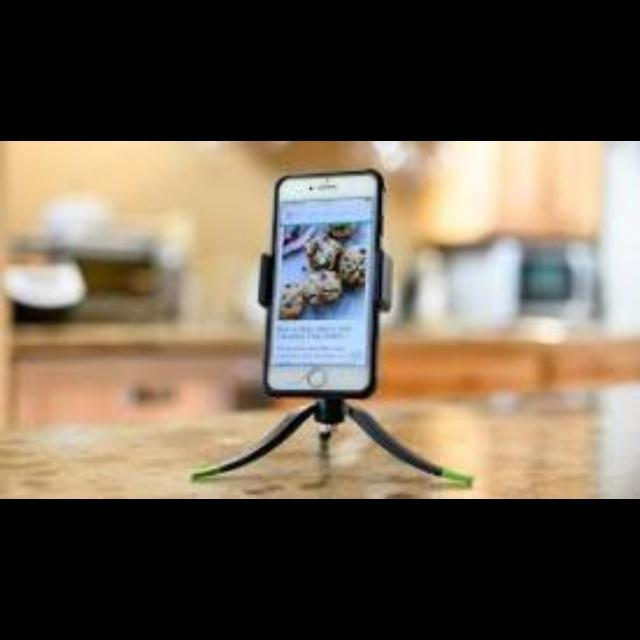Phone: (271, 165, 375, 397)
